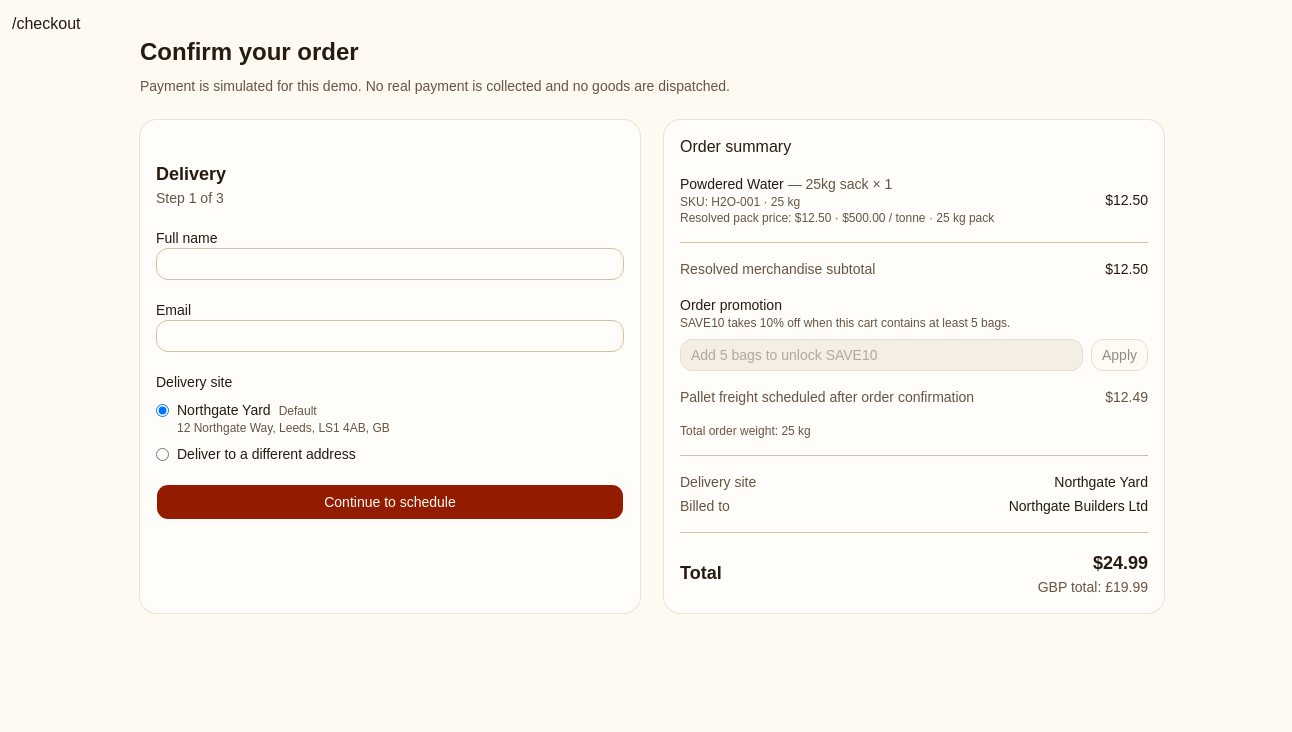
Checkout trade-credit payment method › disables held credit with localized reason while retaining card payment
Type "Checkout Test" into the field labelled "Full name".
click(390, 264); type("Checkout Test")  # box [156,248,624,280]
Type "checkout@example.test" into the field labelled "Email".
click(390, 336); type("checkout@example.test")  # box [156,320,624,352]
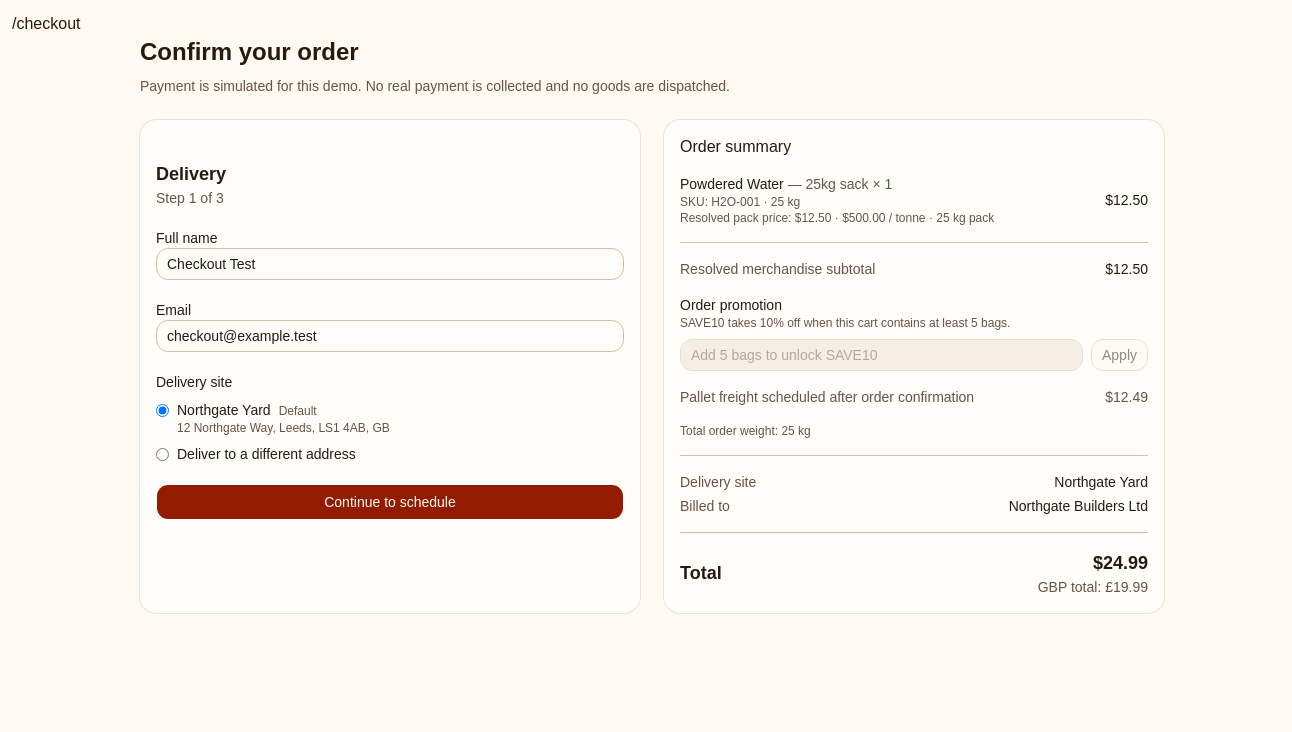
Click the button "Continue to schedule".
click(390, 502)  # box [156,484,624,520]
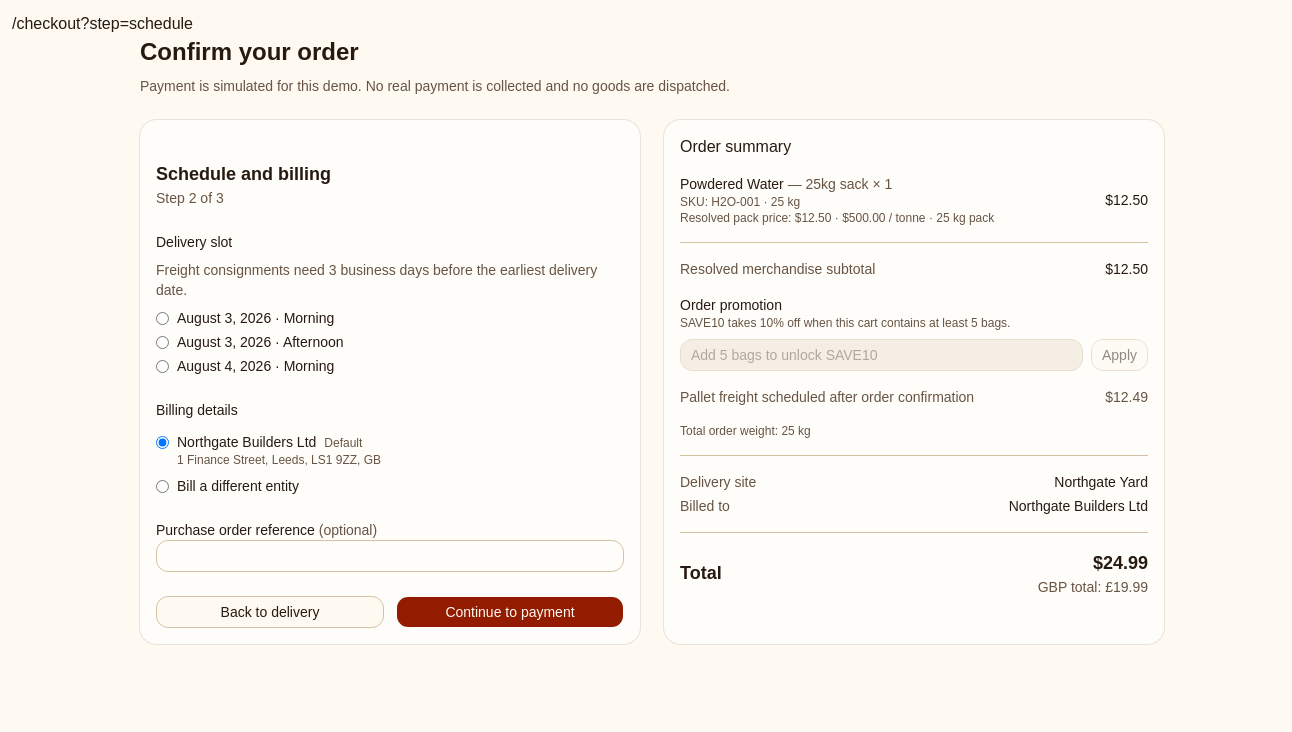
expect the heading "Schedule and billing" is shown: met, box [156,164,331,184]
Click the radio button labelled "August 3, 2026 · Morning".
click(162, 318)  # box [156,312,169,324]
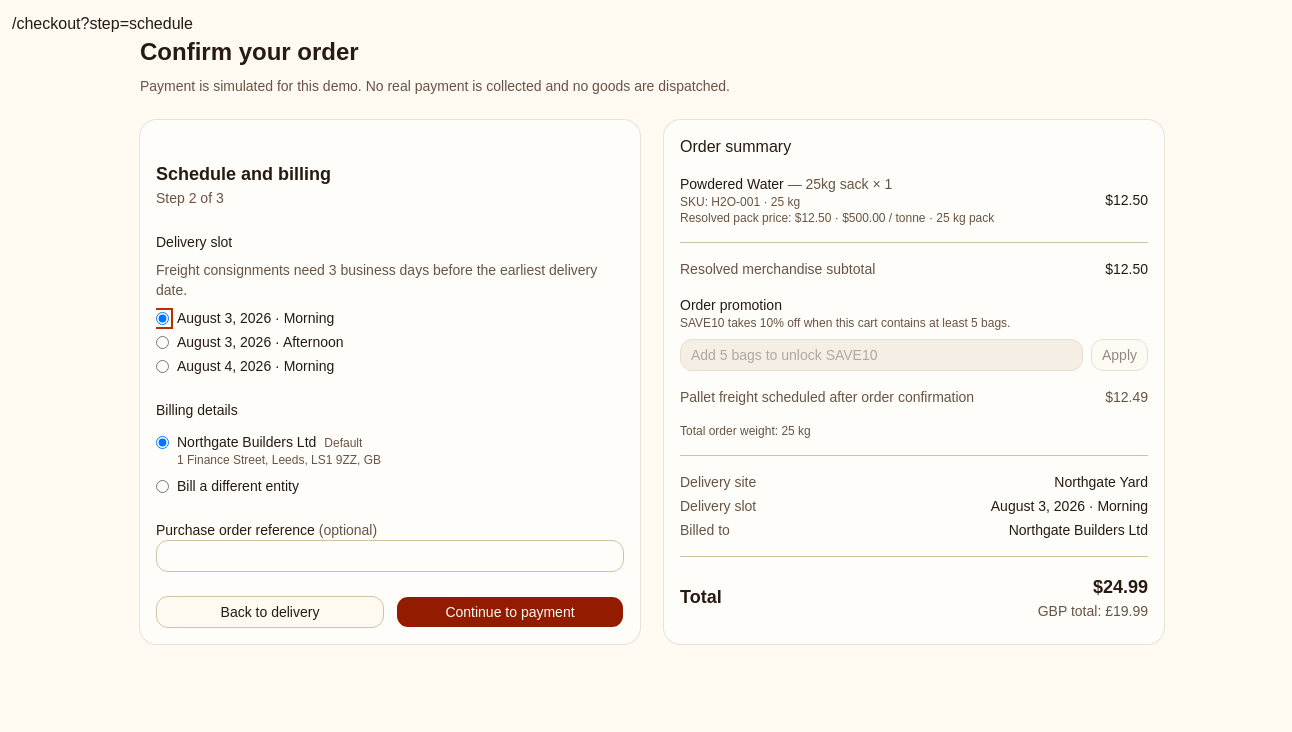
Click the button "Continue to payment".
click(510, 612)  # box [396,596,624,628]
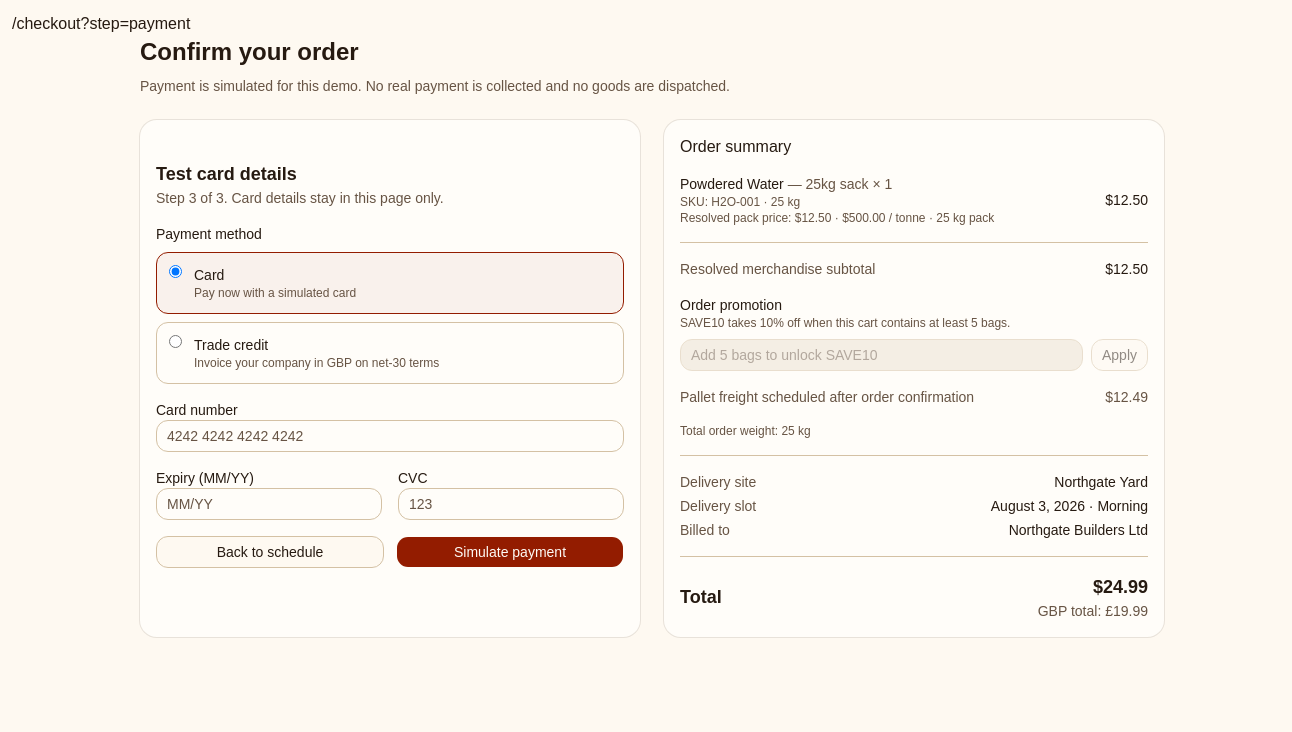
expect the heading "Test card details" is shown: met, box [156,164,297,184]
Click the radio button labelled "Trade credit".
click(176, 342)  # box [169,335,182,348]
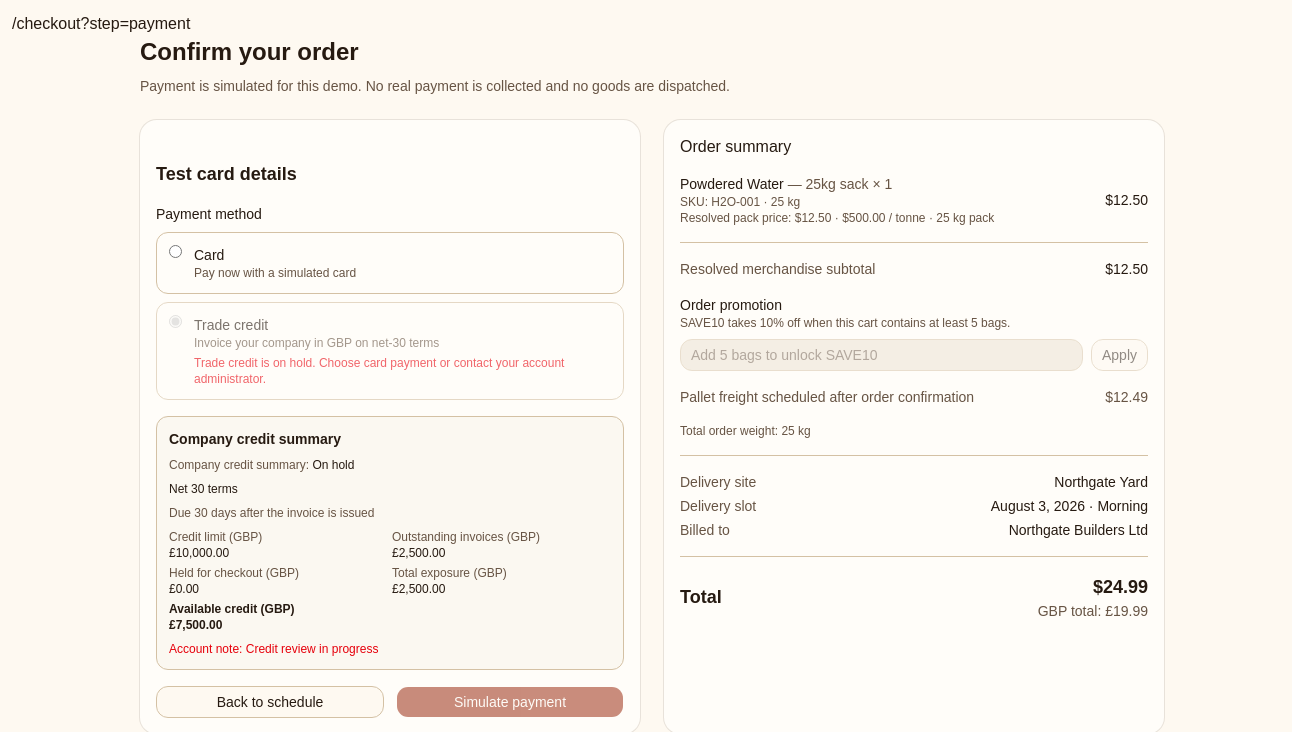
expect the element with test id "checkout-credit-summary" is shown: met, box [156,416,624,670]
expect the radio button labelled "Trade credit" is disabled: met, box [169,315,182,328]
expect the text "Trade credit is on hold. Choose card payment or contact your account administrator." is shown: met, box [194,356,564,386]
Click the radio button labelled "Card".
click(176, 252)  # box [169,245,182,258]
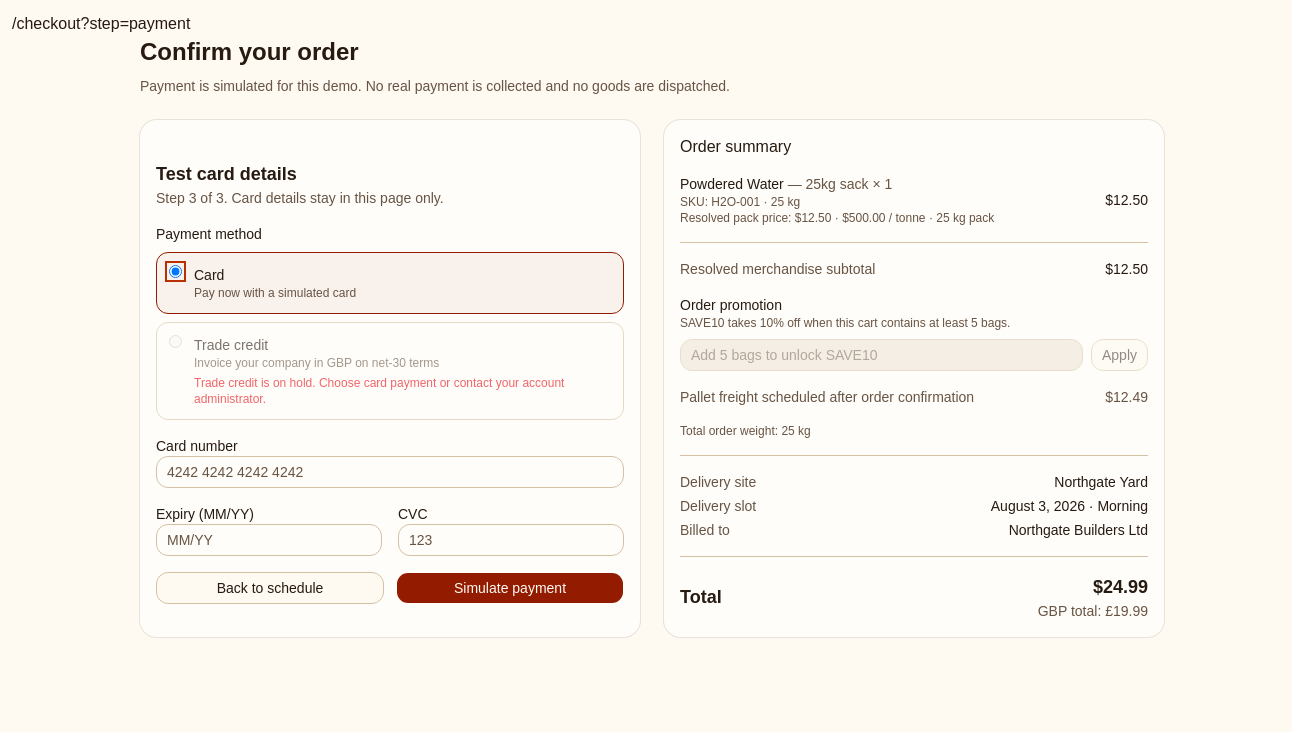
expect the field labelled "Card number" is shown: met, box [156,456,624,488]
